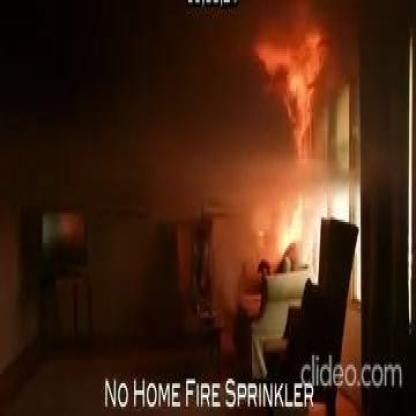fire: (250, 30, 324, 173), (280, 189, 302, 264)
